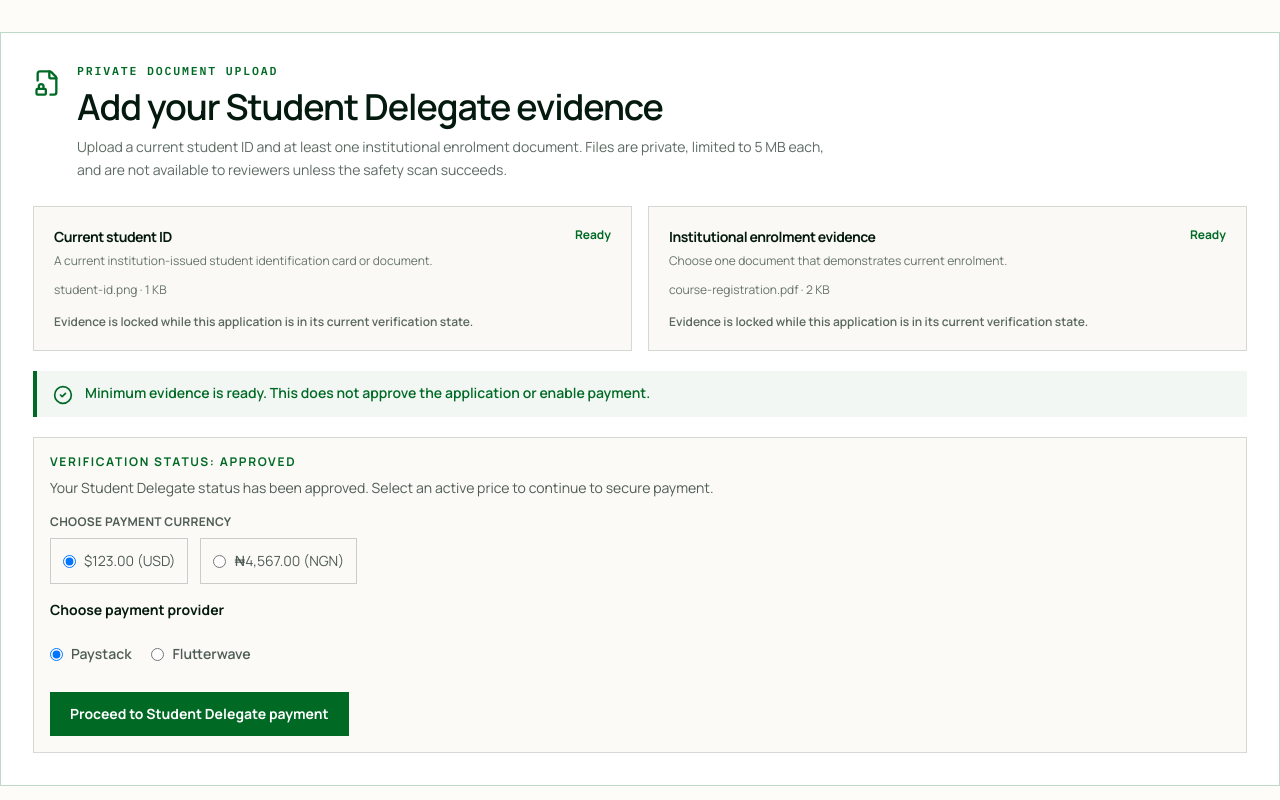
it: Student verification workflow UI › initializes Flutterwave with selected currency, never browser amount
Click the radio button labelled "₦4,567.00 (NGN)" at (220, 561), box [213,555,226,568]
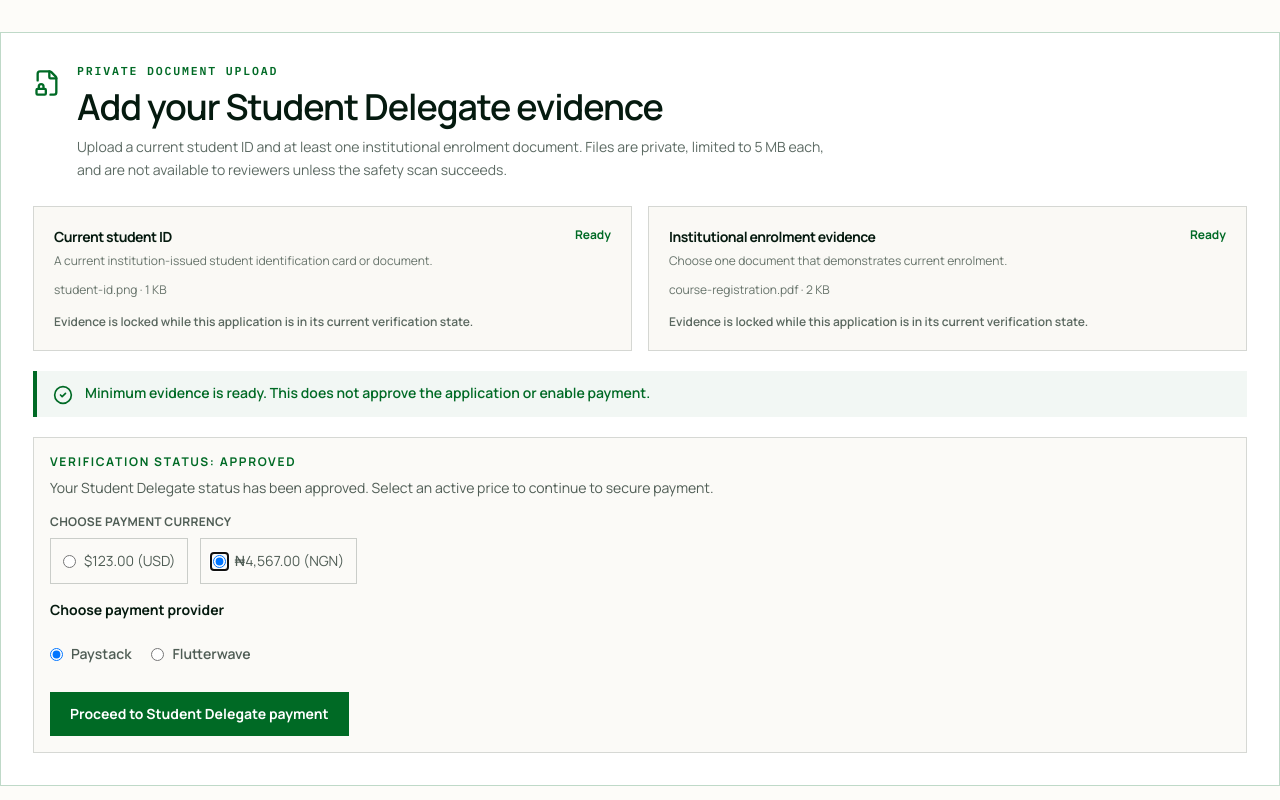
Click the radio button labelled "Flutterwave" at (158, 654), box [152,648,164,661]
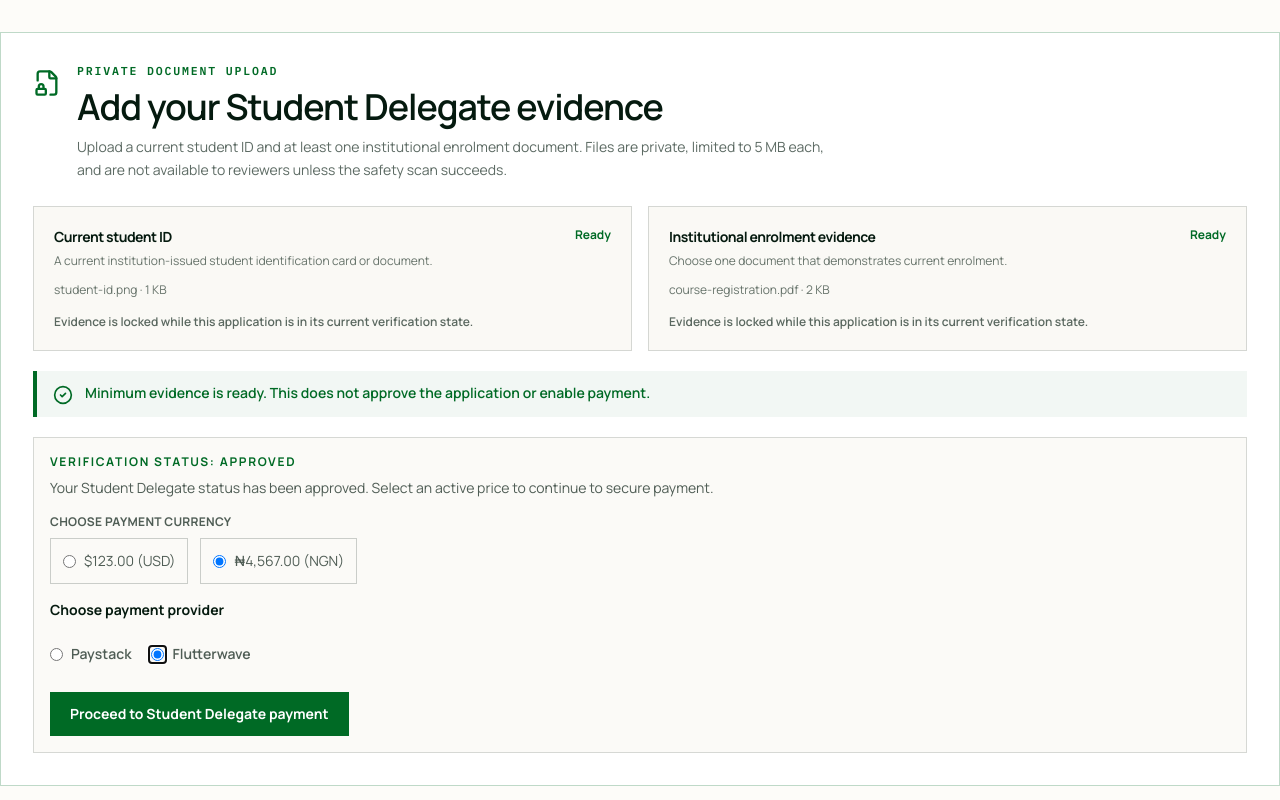
Click the button "Proceed to Student Delegate payment" at (199, 714), box [50,692,349,736]
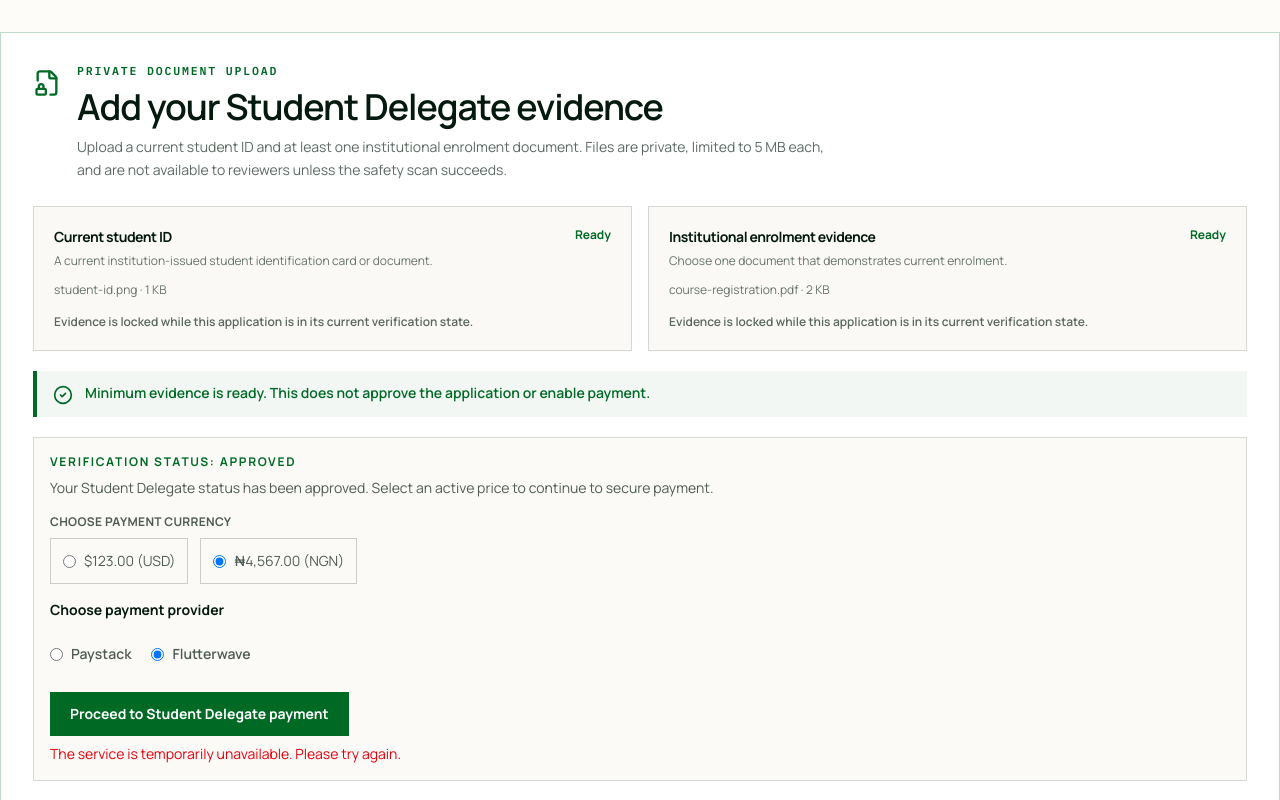
Check: the message "The service is temporarily unavailable. Please try again." is shown, box [50,744,401,763]
